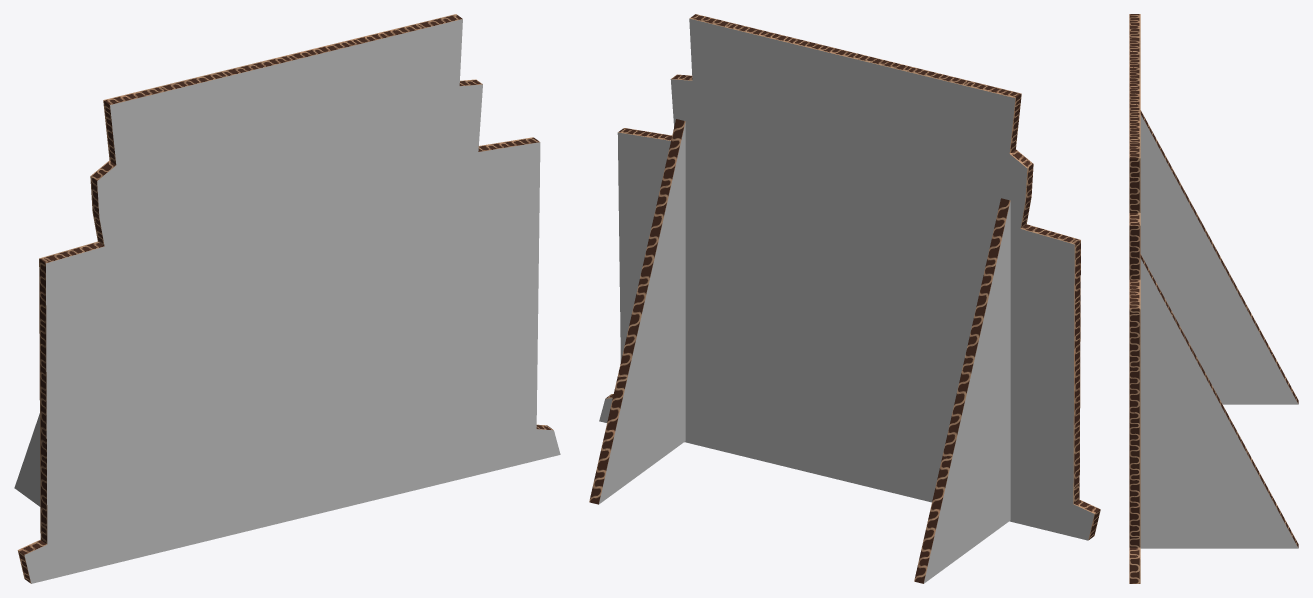
The model's file is Gold_Nugget.fbx.
3 views of the same model, side by side, from view 1: azimuth 30°, elevation 25°; view 2: azimuth 150°, elevation 25°; view 3: azimuth 270°, elevation 25° (orthographic). The views are drawn at different scales.
Visible parts, largest first — view 1: Gold Nugget_LOD0; view 2: Gold Nugget_LOD0; view 3: Gold Nugget_LOD0.
Part boxes in pixels (x1,y1,x2,y2): Gold Nugget_LOD0: (14, 14, 560, 583); Gold Nugget_LOD0: (589, 14, 1100, 583); Gold Nugget_LOD0: (1129, 14, 1298, 583).
Bounding box in the file's own units: 1173 × 961 × 383.
